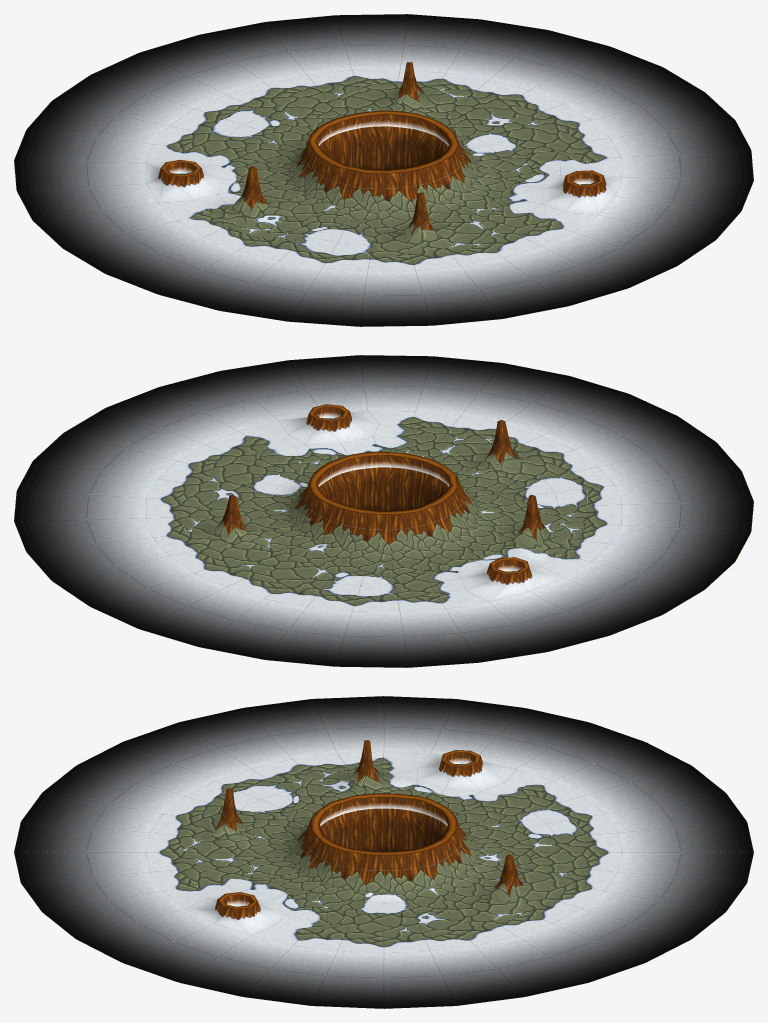
3 renders of one model, top to bottom at view 1: azimuth 30°, elevation 25°; view 2: azimuth 150°, elevation 25°; view 3: azimuth 270°, elevation 25°, orthographic.
Visible parts, largest first — view 1: T2B1M001_114, T2B1M001_84, T2B1M001_89, T2B1M001_124, T2B1M001_50, T2B1M001_121, T2B1M001_59, T2B1M001_112, T2B1M001_88, T2B1M001_110, T2B1M001_36, T2B1M001_108 (+89 smaller); view 2: T2B1M001_114, T2B1M001_50, T2B1M001_121, T2B1M001_89, T2B1M001_124, T2B1M001_85, T2B1M001_58, T2B1M001_88, T2B1M001_112, T2B1M001_29, T2B1M001_81, T2B1M001_18 (+89 smaller); view 3: T2B1M001_114, T2B1M001_71, T2B1M001_121, T2B1M001_124, T2B1M001_86, T2B1M001_50, T2B1M001_89, T2B1M001_73, T2B1M001_60, T2B1M001_88, T2B1M001_112, T2B1M001_48 (+87 smaller).
Boxes of the visible parts, left/top/right/bottom form: T2B1M001_114: left=651, top=179, right=753, bottom=239; T2B1M001_84: left=327, top=166, right=414, bottom=221; T2B1M001_89: left=610, top=120, right=750, bottom=156; T2B1M001_124: left=541, top=232, right=676, bottom=287; T2B1M001_50: left=530, top=46, right=661, bottom=103; T2B1M001_121: left=416, top=266, right=502, bottom=325; T2B1M001_59: left=323, top=111, right=388, bottom=169; T2B1M001_112: left=501, top=212, right=650, bottom=246; T2B1M001_88: left=552, top=138, right=680, bottom=178; T2B1M001_110: left=407, top=195, right=502, bottom=270; T2B1M001_36: left=446, top=49, right=564, bottom=90; T2B1M001_108: left=307, top=268, right=423, bottom=295; T2B1M001_114: left=220, top=355, right=363, bottom=398; T2B1M001_50: left=17, top=461, right=157, bottom=497; T2B1M001_121: left=541, top=394, right=677, bottom=449; T2B1M001_89: left=106, top=387, right=237, bottom=444; T2B1M001_124: left=416, top=356, right=502, bottom=415; T2B1M001_85: left=378, top=452, right=462, bottom=510; T2B1M001_58: left=354, top=507, right=454, bottom=550; T2B1M001_88: left=203, top=398, right=287, bottom=461; T2B1M001_112: left=364, top=386, right=460, bottom=440; T2B1M001_29: left=446, top=591, right=564, bottom=632; T2B1M001_81: left=577, top=503, right=680, bottom=543; T2B1M001_18: left=344, top=609, right=460, bottom=636; T2B1M001_114: left=76, top=922, right=217, bottom=982; T2B1M001_71: left=345, top=793, right=414, bottom=851; T2B1M001_121: left=21, top=792, right=162, bottom=832; T2B1M001_124: left=21, top=872, right=162, bottom=911; T2B1M001_86: left=265, top=837, right=352, bottom=904; T2B1M001_50: left=430, top=946, right=524, bottom=1005; T2B1M001_89: left=243, top=946, right=337, bottom=1005; T2B1M001_73: left=338, top=849, right=414, bottom=938; T2B1M001_60: left=399, top=837, right=469, bottom=902; T2B1M001_88: left=219, top=924, right=348, bottom=968; T2B1M001_112: left=109, top=867, right=216, bottom=922; T2B1M001_48: left=440, top=854, right=530, bottom=932.
Bounding box in the file's own units: 47.75 × 7.5 × 47.75.
1 material, 1 textured.
